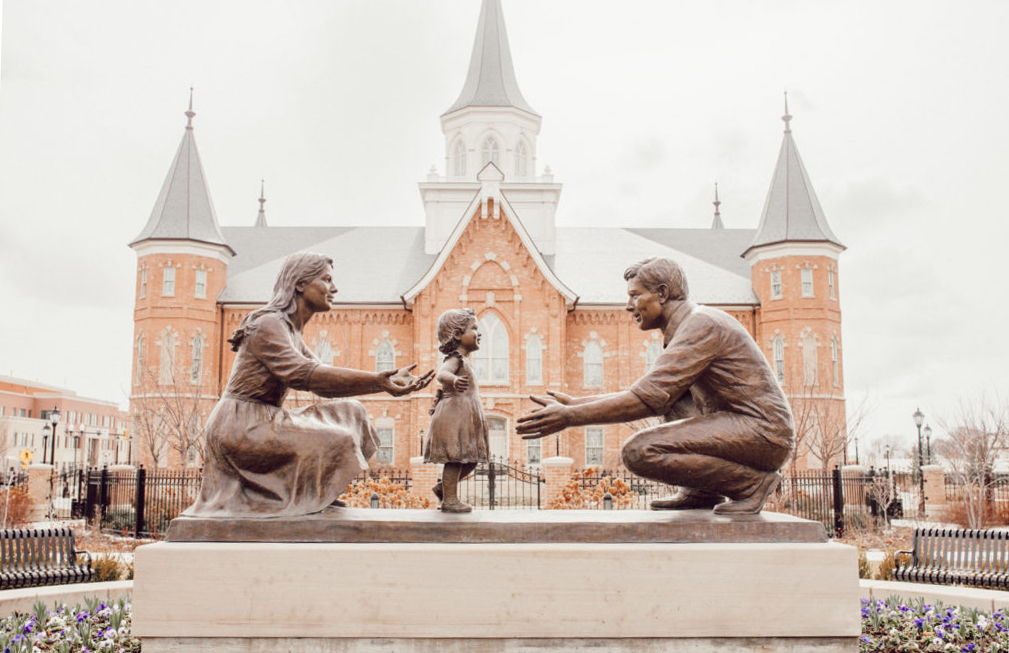person-like: (510, 250, 804, 524), (188, 249, 436, 520), (416, 307, 495, 520)
